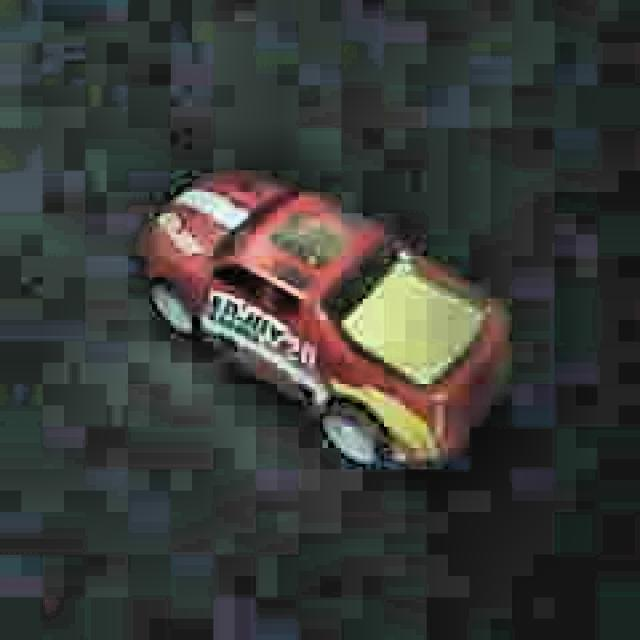car: (136, 161, 523, 480)
